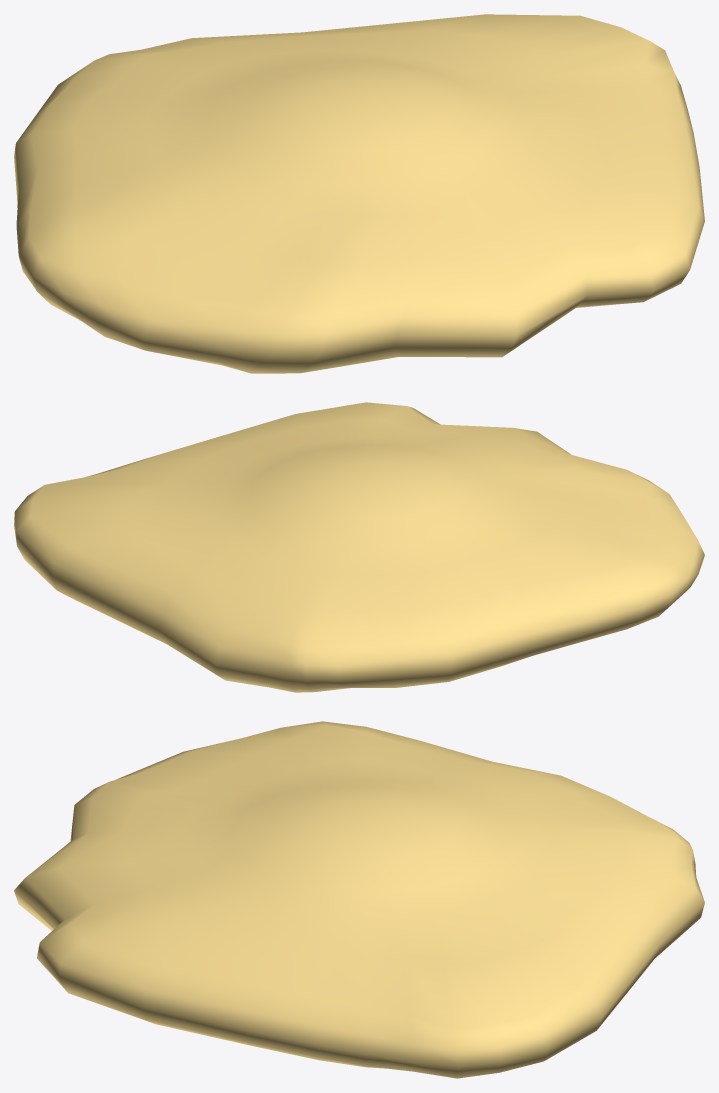
The model's file is humectant_base.glb.
The picture shows the model from 3 angles, top to bottom: view 1: azimuth 30°, elevation 25°; view 2: azimuth 150°, elevation 25°; view 3: azimuth 270°, elevation 25°; orthographic projection. The views are drawn at different scales.
Parts seen in each view (by area): view 1: Sphere; view 2: Sphere; view 3: Sphere.
Part boxes in pixels (left/top/right/bottom): Sphere: left=14, top=14, right=704, bottom=373; Sphere: left=14, top=402, right=704, bottom=692; Sphere: left=14, top=721, right=704, bottom=1078.
Bounding box in the file's own units: 5.61 × 1.33 × 5.13.
